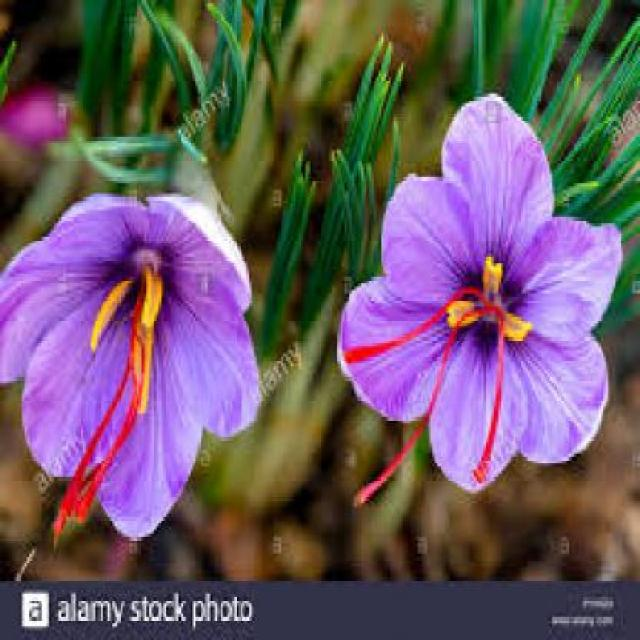Flower: (340, 96, 622, 489), (0, 189, 274, 537)
stigma: (360, 336, 468, 504), (47, 401, 122, 535), (339, 287, 464, 367), (78, 414, 140, 520), (477, 304, 511, 484)
